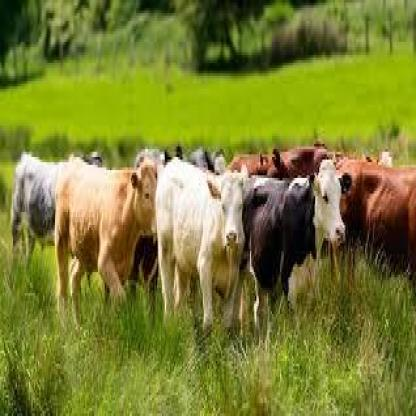cow: (239, 159, 352, 335), (157, 157, 254, 335), (54, 162, 157, 327), (336, 157, 416, 283), (11, 153, 103, 260)
